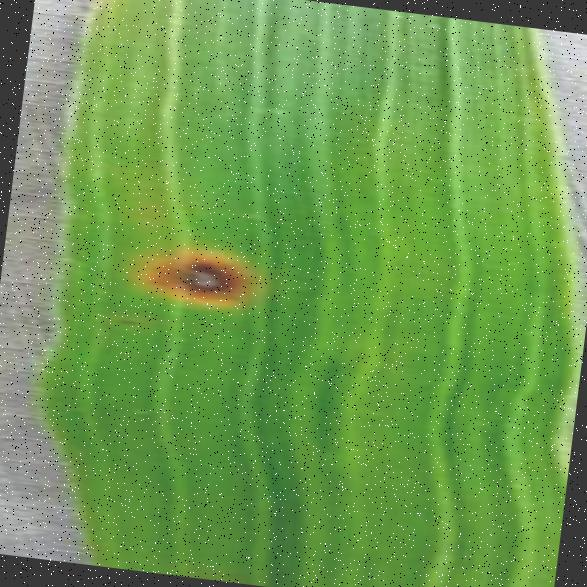Brown_Spot: (123, 230, 264, 318), (104, 308, 143, 334)
